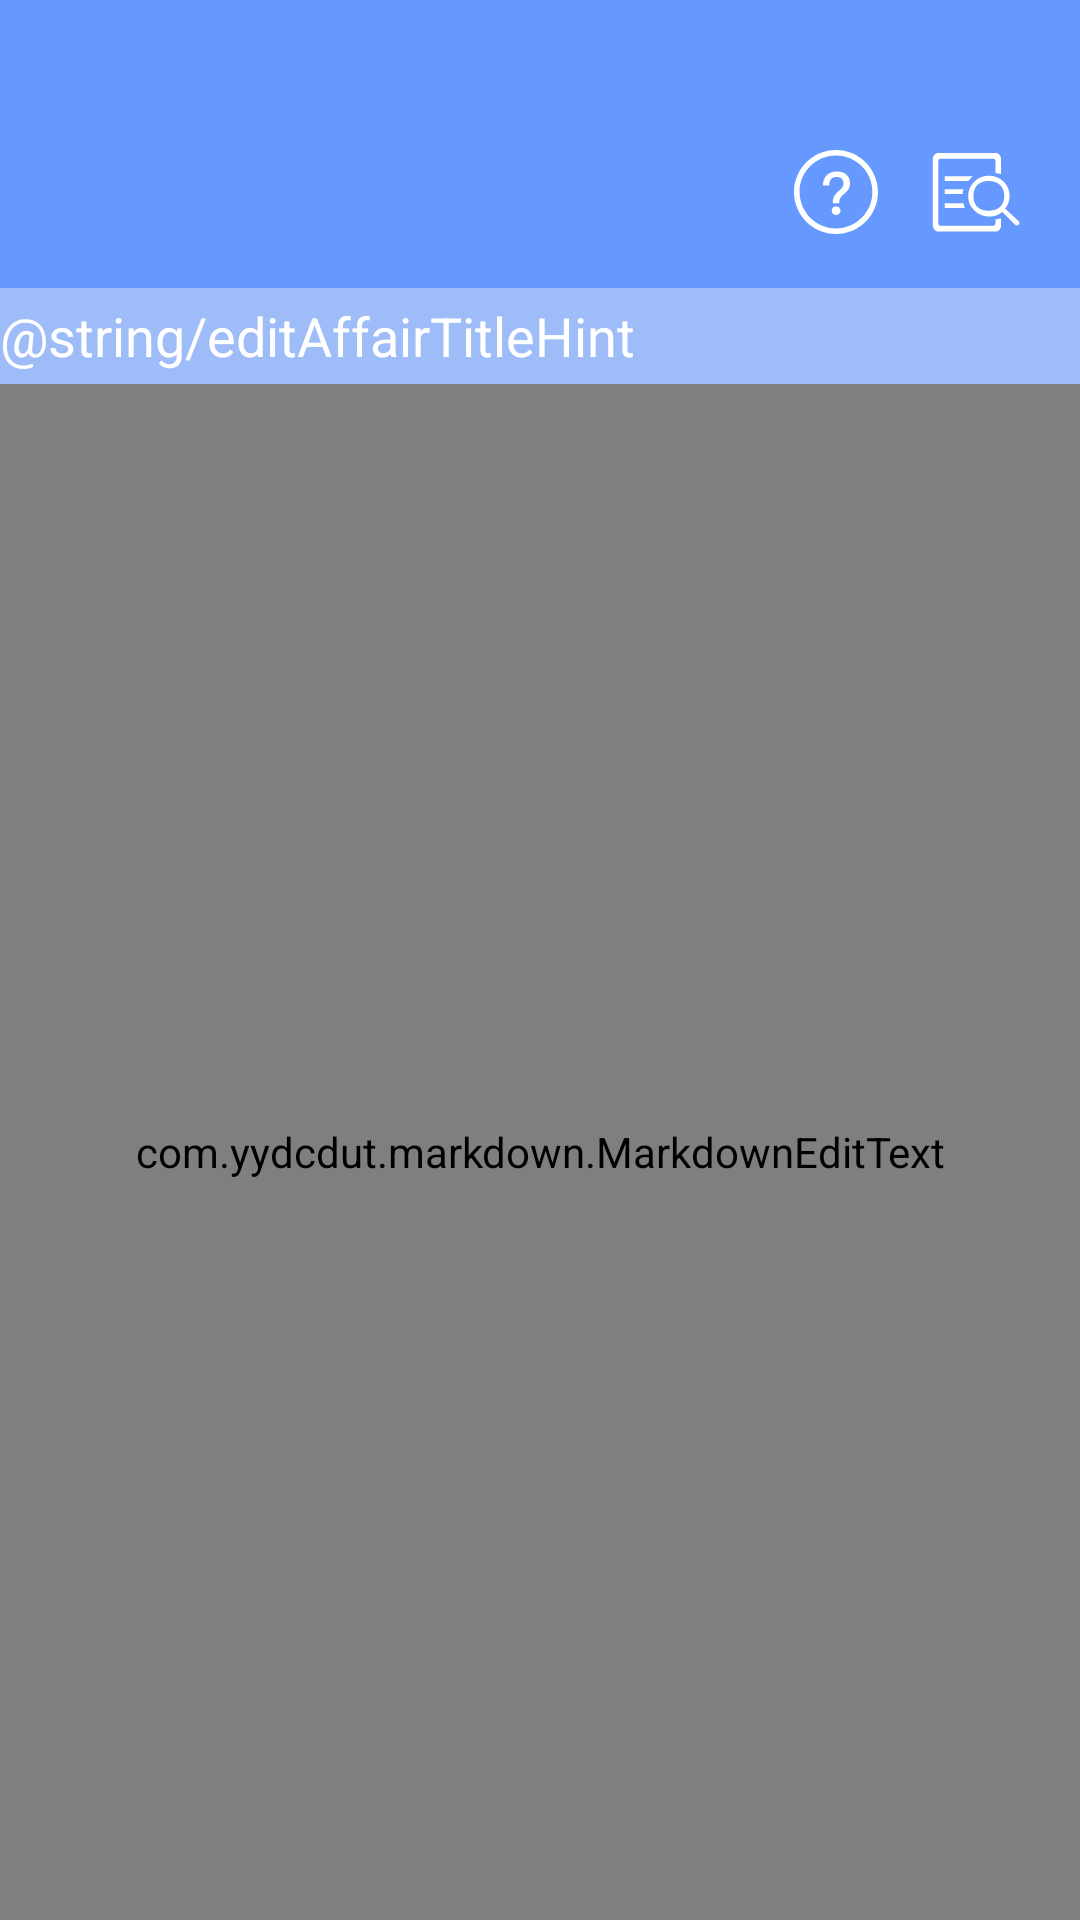

Screen size 1080*1920. Icon name, then its box in pixels as (x1, y1, x2, y2):
help: (794, 150, 878, 234)
observe: (932, 153, 1020, 232)
